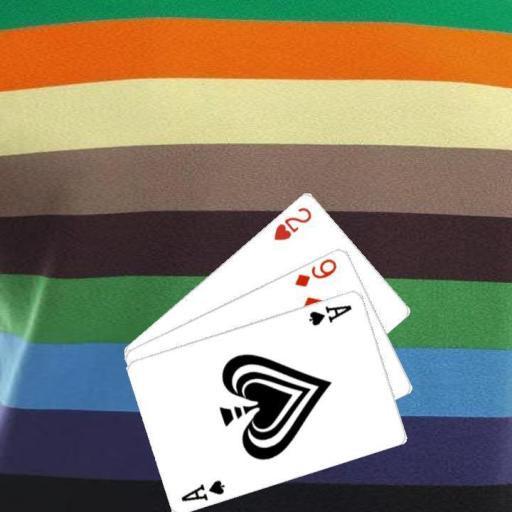card-corner: (270, 203, 314, 242), (292, 254, 338, 288), (178, 476, 227, 503), (306, 302, 353, 327)
